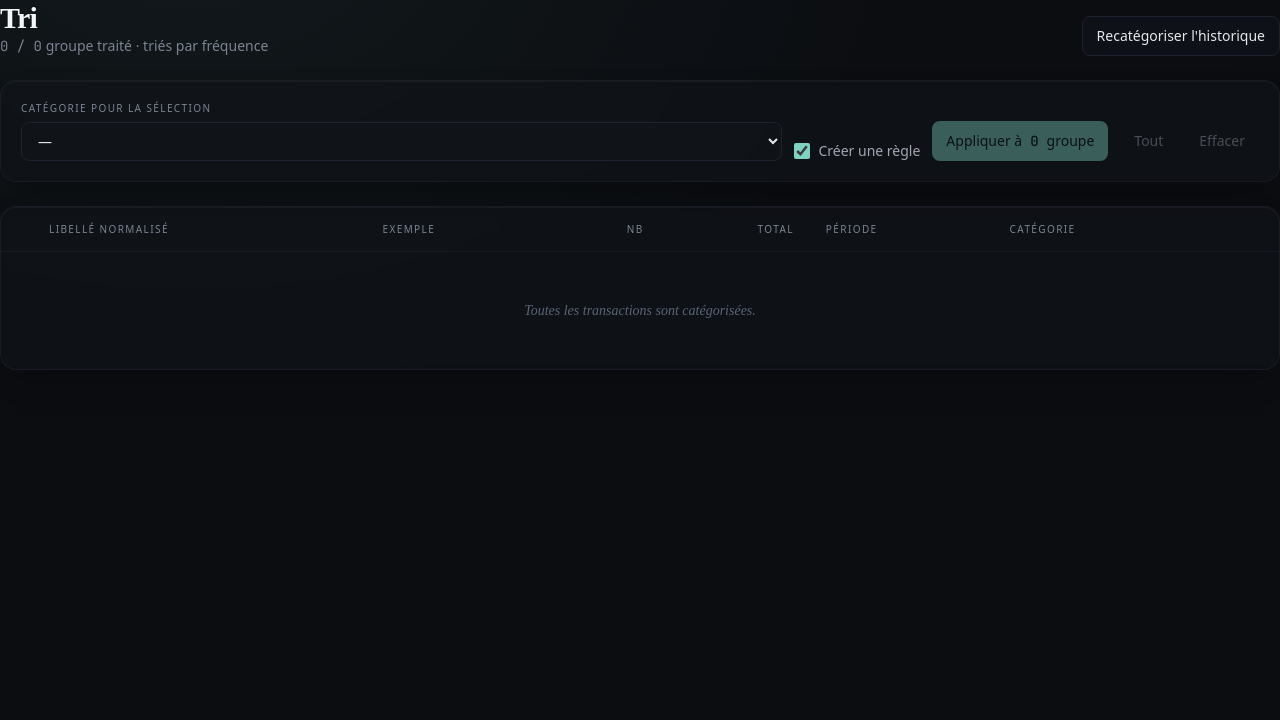
Tri page › recategorize dialog → POST /api/recategorize on confirm
The width and height of the screenshot is (1280, 720).
Click the button "Recatégoriser l'historique".
click(1181, 36)  # box [1082,16,1279,56]
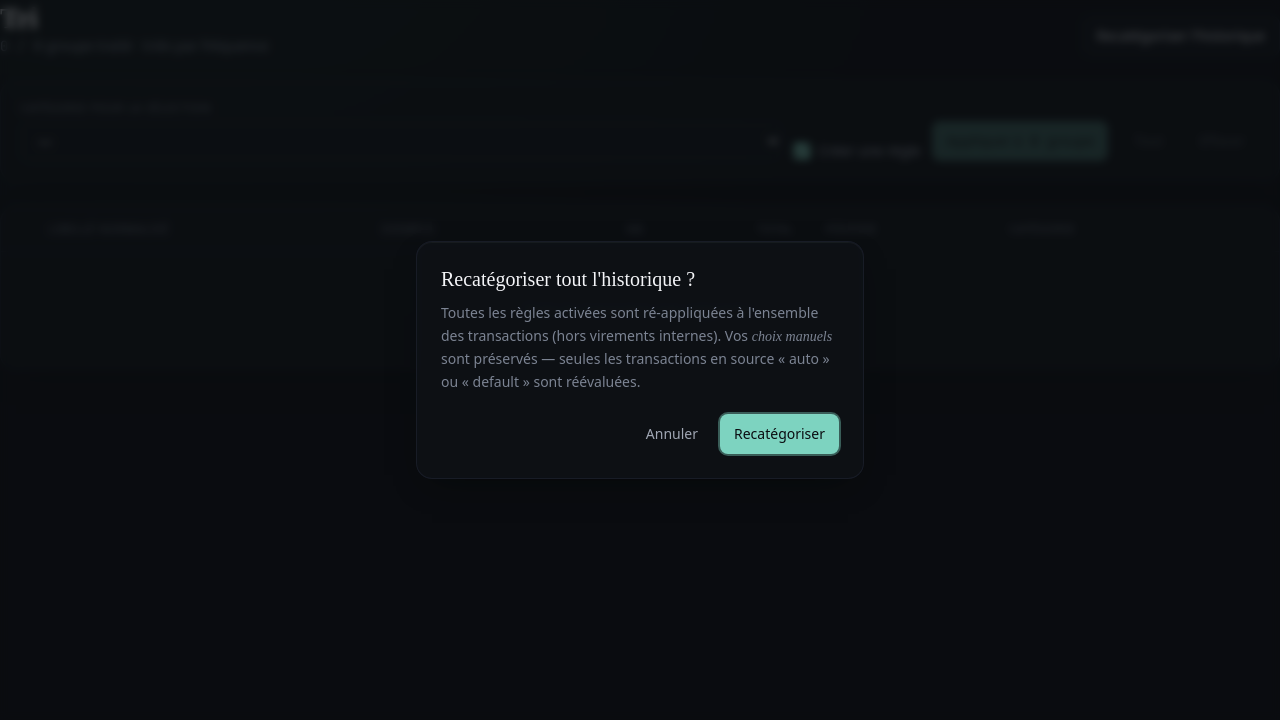
Click the button "Recatégoriser".
click(780, 434)  # box [720,414,839,454]
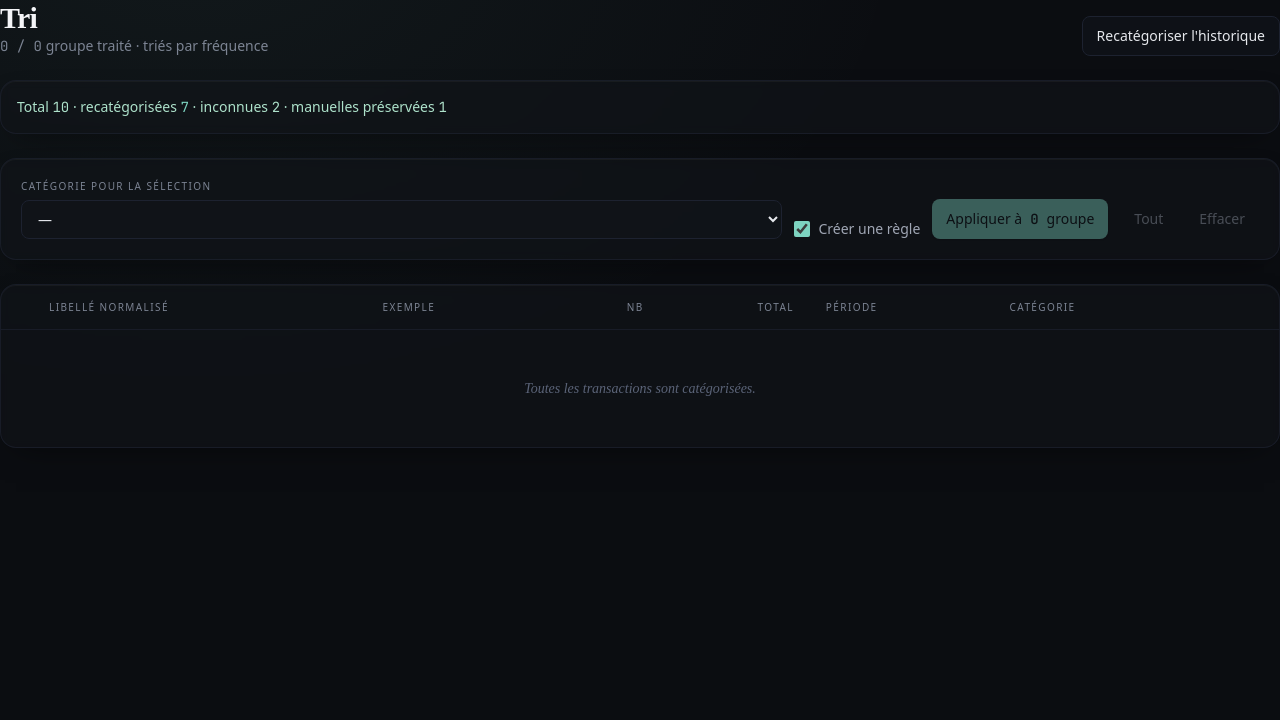
Expected: the text "recatégorisées" is shown, [80,97,177,116]
